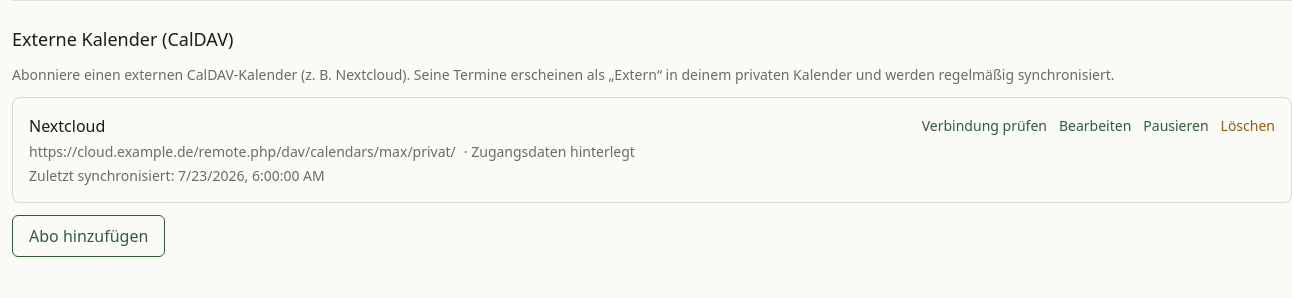
Test: checking a subscription reports the result inline
Step 1. Click the button "Verbindung prüfen" → (984, 126), box x1=922 y1=116 x2=1047 y2=136
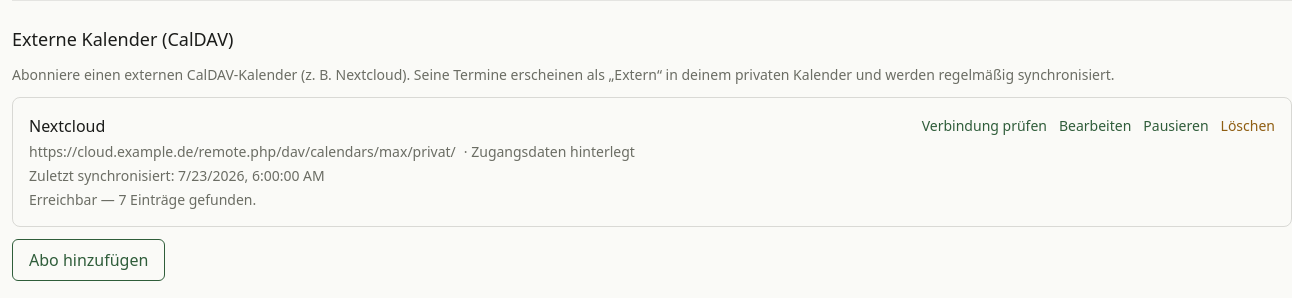
Expected: the message shows "7", x1=29 y1=190 x2=256 y2=209
